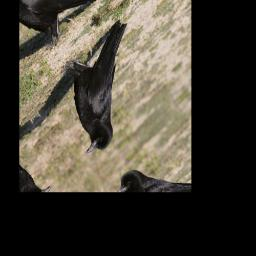Crow: (41, 12, 170, 163)
